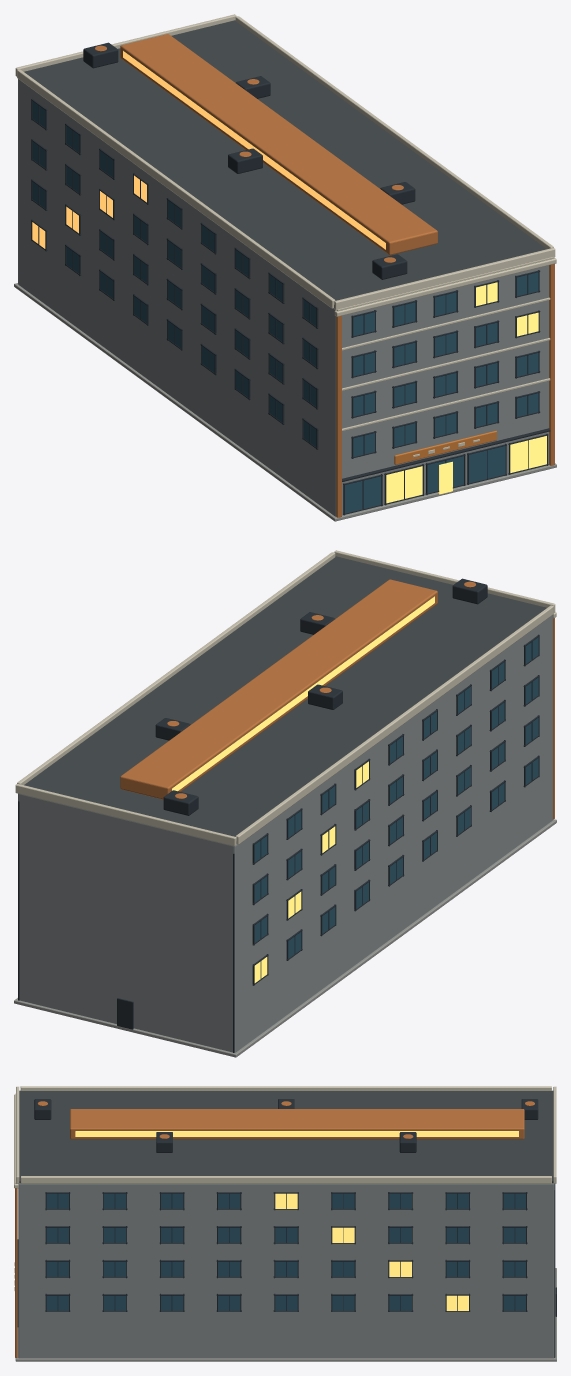
Rendered from rorng_city_storefront_market_20x50.glb.
3 views of the same model, one above another, from view 1: azimuth 30°, elevation 25°; view 2: azimuth 150°, elevation 25°; view 3: azimuth 270°, elevation 25° (orthographic). The views are drawn at different scales.
Visible parts, largest first — view 1: rorng_city_storefront_market_20x50_lod0; view 2: rorng_city_storefront_market_20x50_lod0; view 3: rorng_city_storefront_market_20x50_lod0.
Boxes of the visible parts, x1=… form: rorng_city_storefront_market_20x50_lod0: x1=14, y1=14, x2=556, y2=521; rorng_city_storefront_market_20x50_lod0: x1=14, y1=550, x2=556, y2=1057; rorng_city_storefront_market_20x50_lod0: x1=14, y1=1086, x2=556, y2=1361.
Size of what is drawn, in the model's own units: 20.01 by 20.16 by 50.16.
